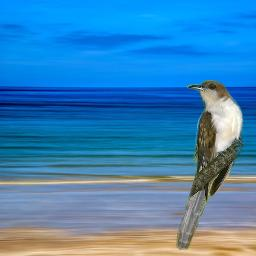Cuckoo: (176, 80, 244, 250)
